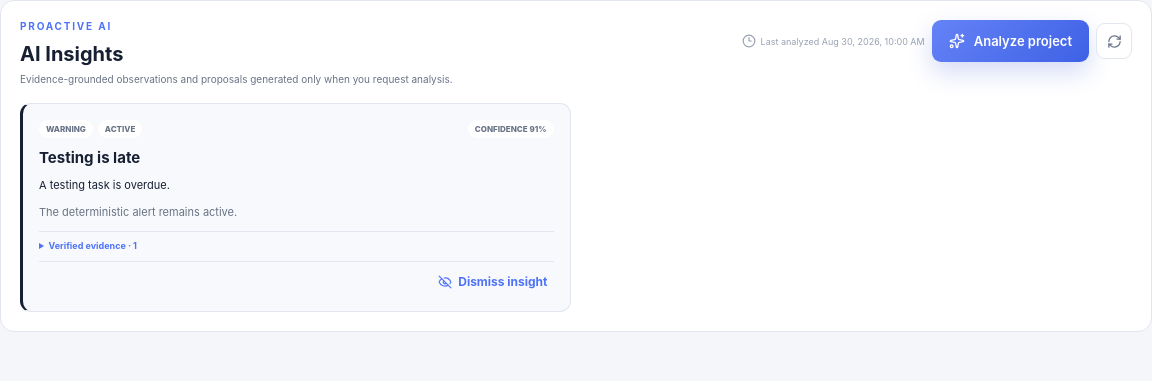
Test: AI analysis workspace › renders insights, confidence, evidence, and dismiss lifecycle
The image size is (1152, 381).
Expected: the heading "Testing is late" is shown, x1=39 y1=148 x2=140 y2=167
Expected: the text "Confidence 91%" is shown, x1=468 y1=120 x2=554 y2=138
Click the heading "Verified evidence · 1" at (93, 246), box x1=48 y1=240 x2=137 y2=251
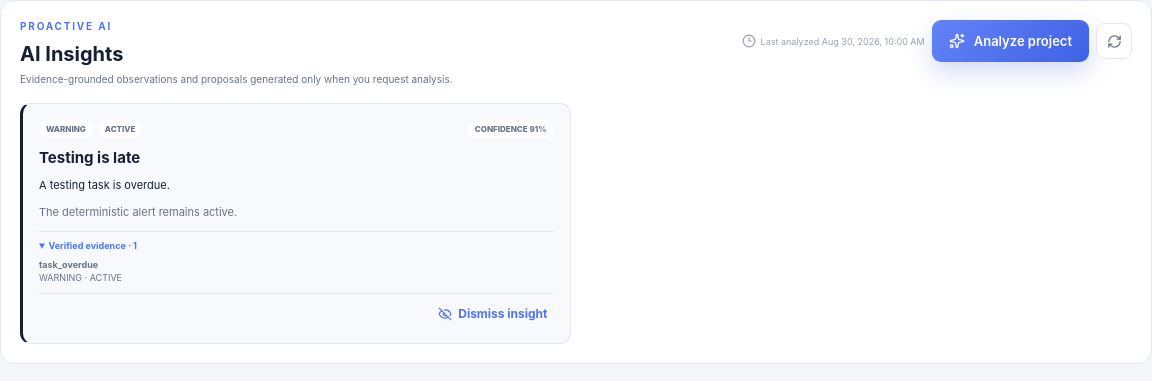
Expected: the text "task_overdue" is shown, x1=39 y1=259 x2=98 y2=270
Click the button "Dismiss insight" at (493, 314), box x1=432 y1=300 x2=554 y2=327
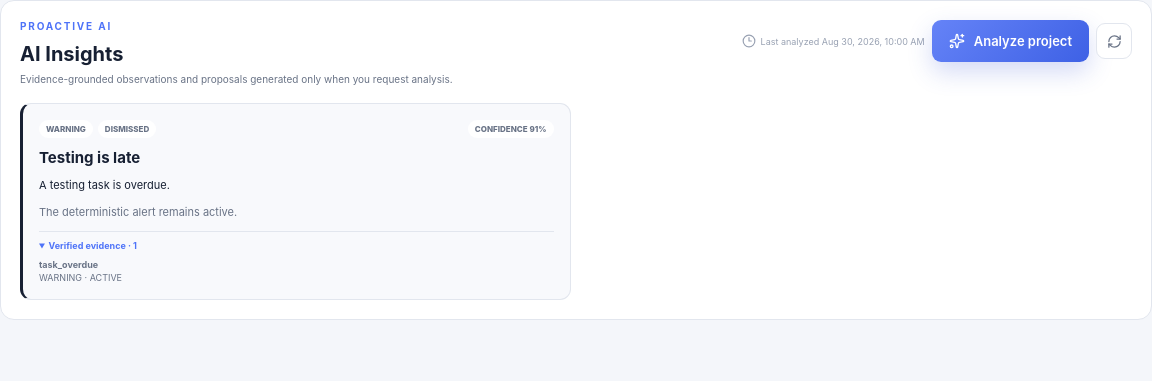
Expected: the text "Dismissed" is shown, x1=98 y1=120 x2=156 y2=138
